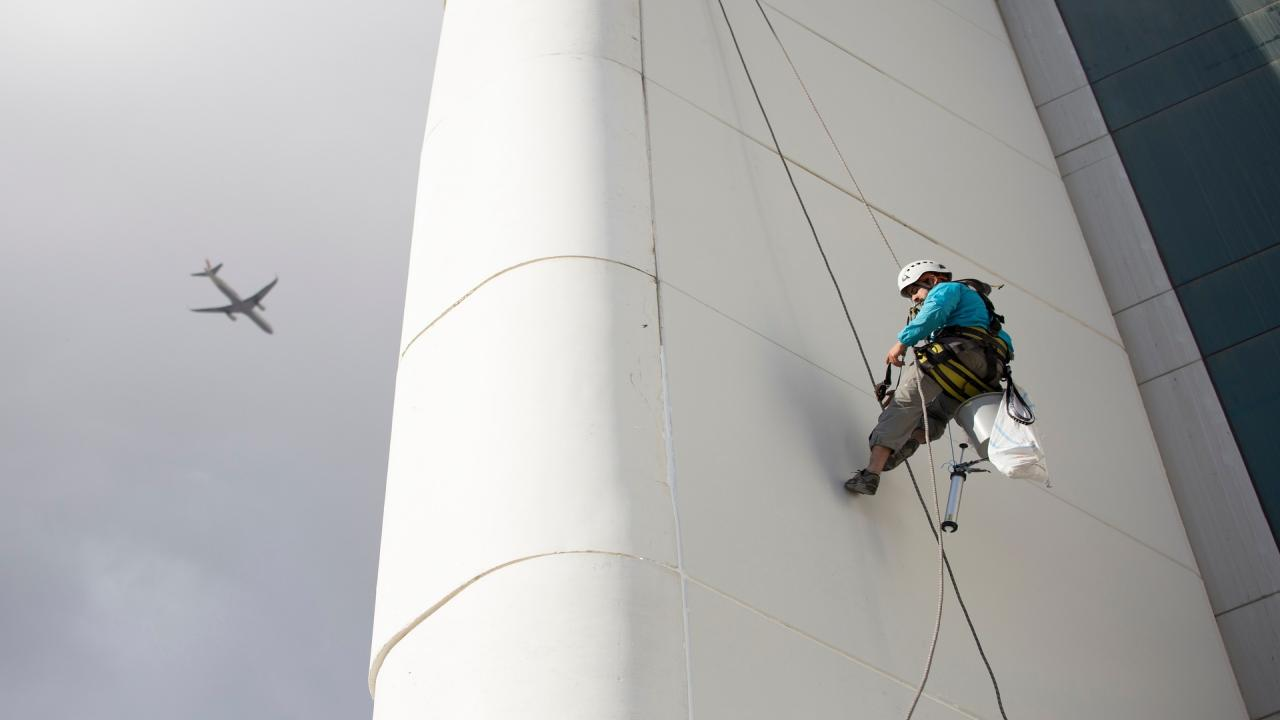Airplane: (178, 251, 285, 341)
